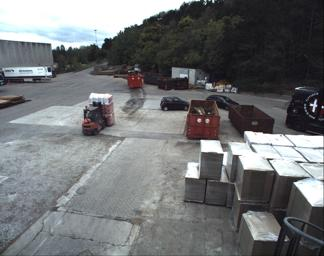rockwool_batts: (87, 91, 114, 124)
